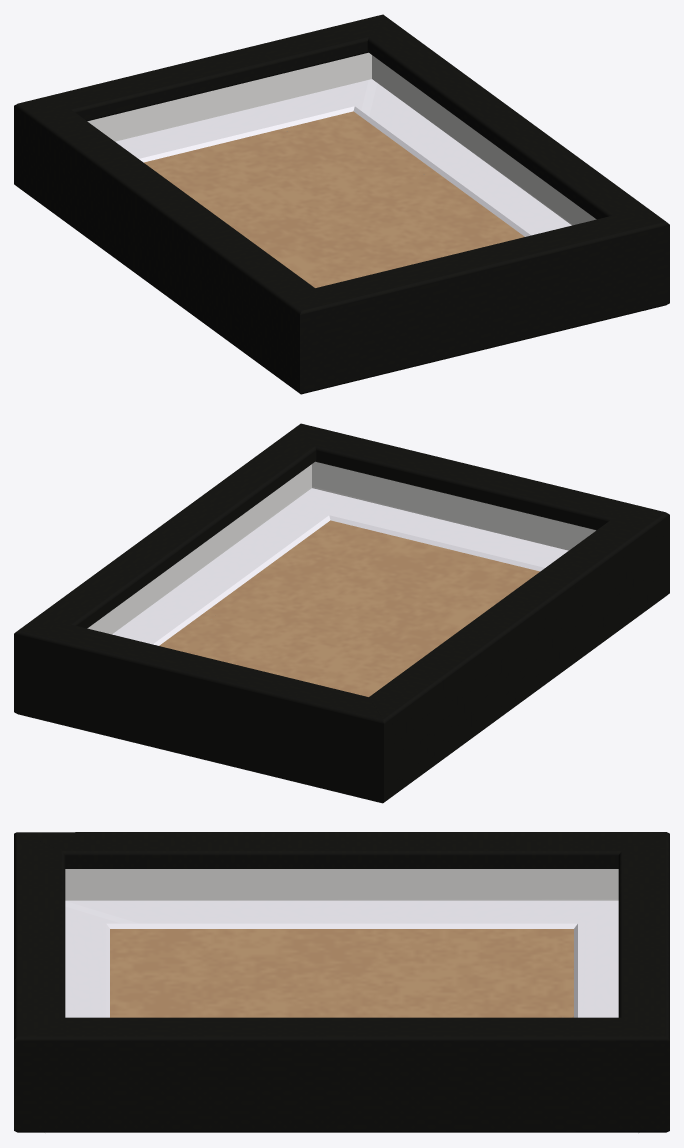
The model's file is ikea_rodalm_13x18_noir.glb.
3 views of the same model, one above another, from view 1: azimuth 30°, elevation 25°; view 2: azimuth 150°, elevation 25°; view 3: azimuth 270°, elevation 25° (orthographic). The views are drawn at different scales.
Parts seen in each view (by area): view 1: 10548867-RÃƒâ€“DALM001; view 2: 10548867-RÃƒâ€“DALM001; view 3: 10548867-RÃƒâ€“DALM001.
Boxes of the visible parts, left/top/right/bottom form: 10548867-RÃƒâ€“DALM001: left=14, top=14, right=669, bottom=394; 10548867-RÃƒâ€“DALM001: left=14, top=423, right=669, bottom=803; 10548867-RÃƒâ€“DALM001: left=14, top=832, right=669, bottom=1133.
Bounding box in the file's own units: 0.148 × 0.0324 × 0.198.
2 materials, 2 textured.
